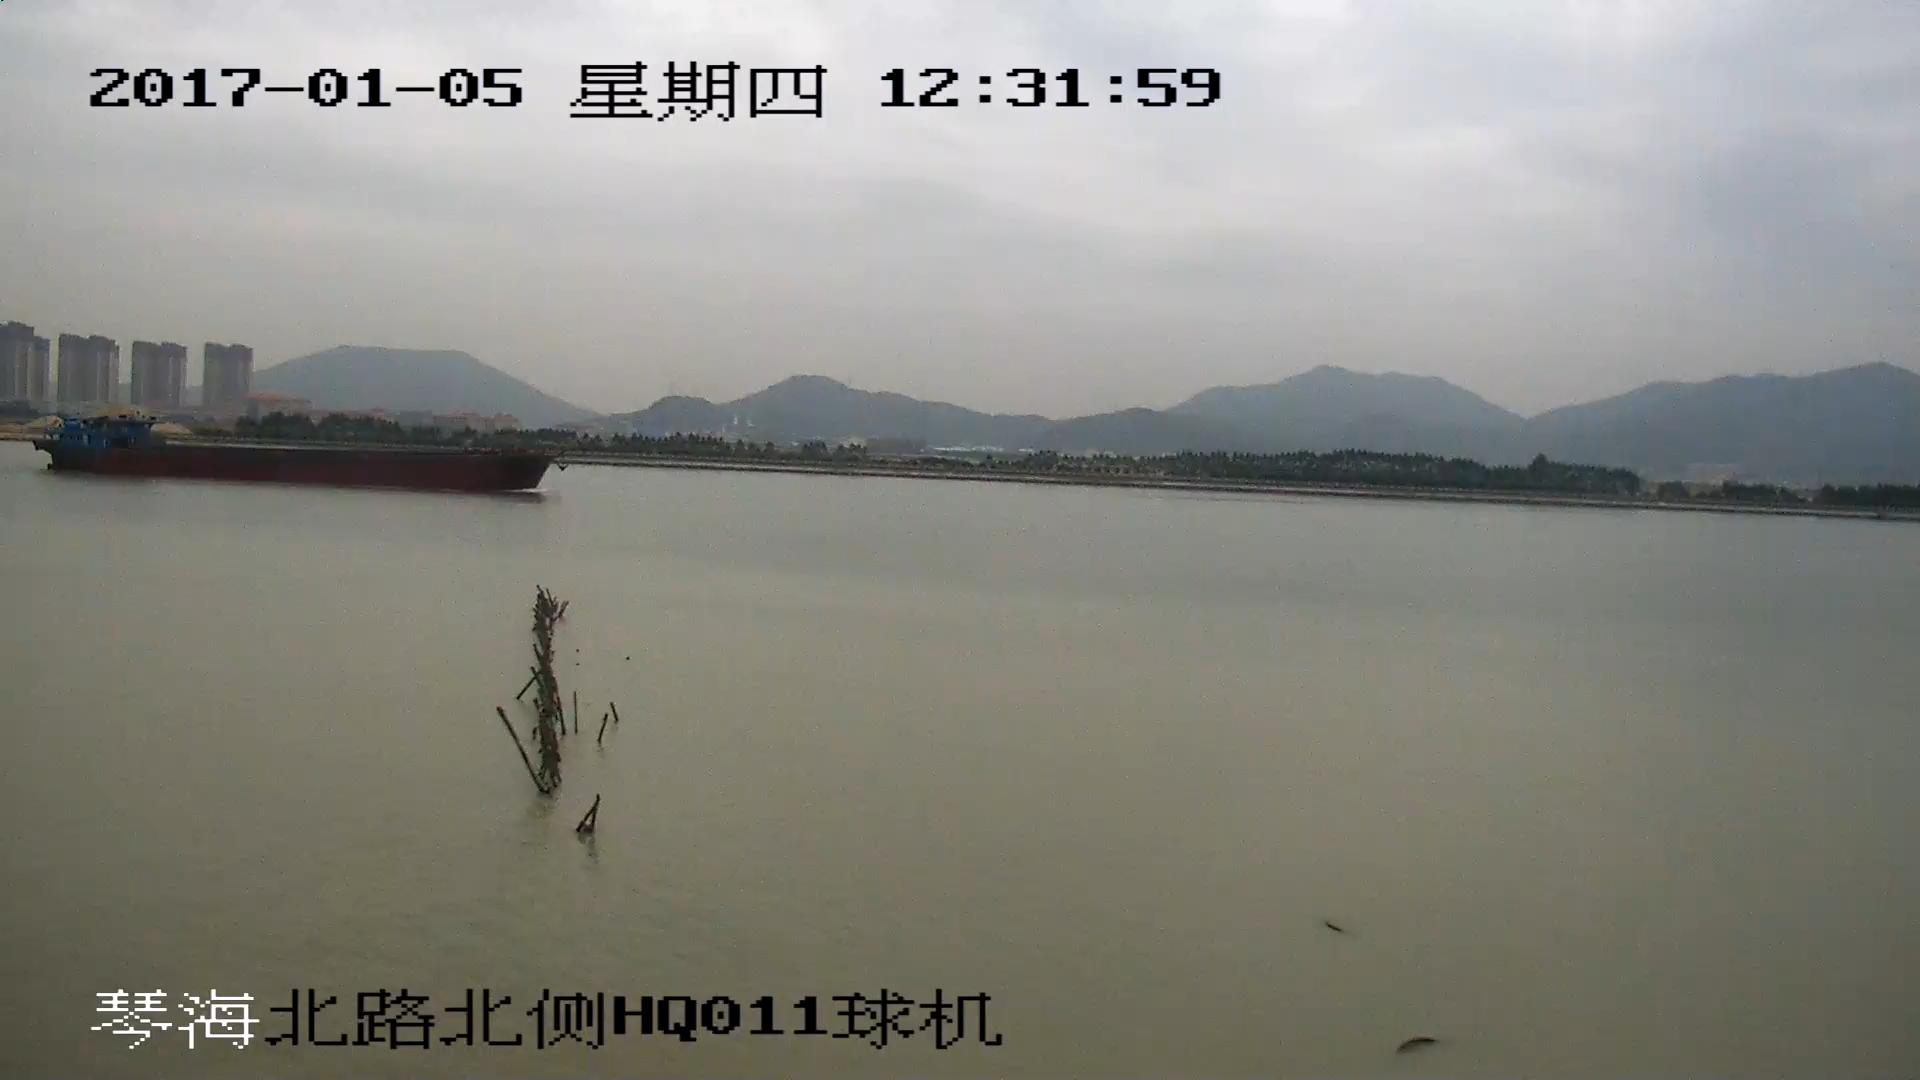bulk cargo carrier: (32, 419, 570, 492)
